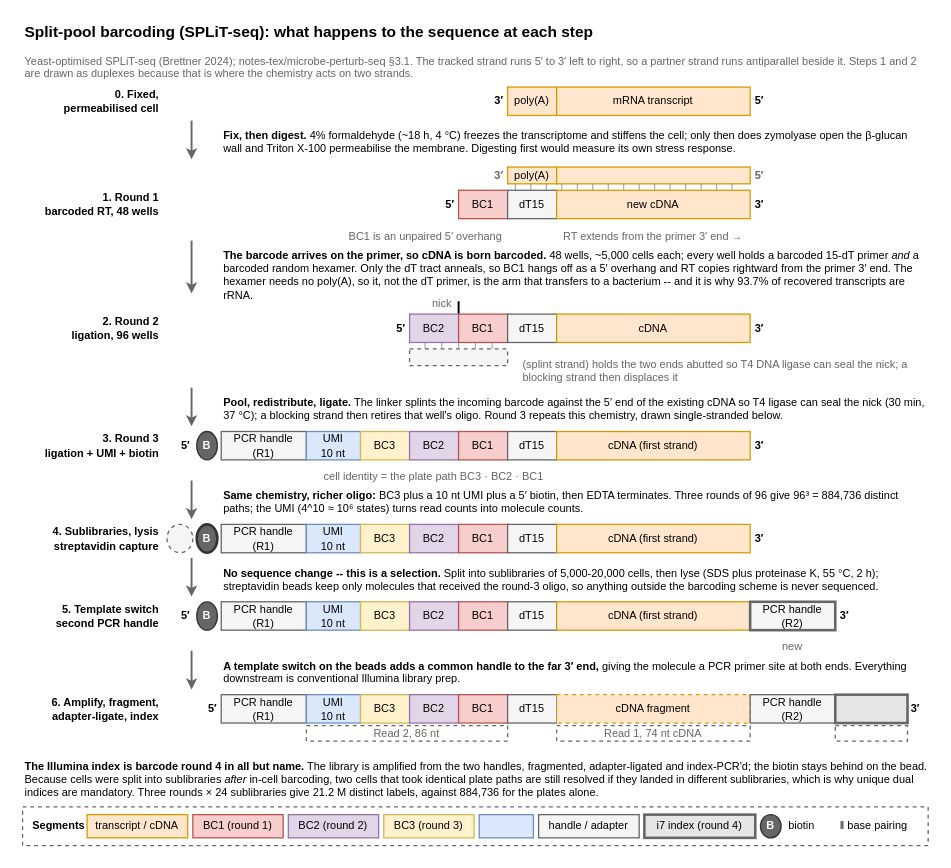
This 951x868 diagram has some shape labels left out. The centre of each missing label's shape, as x and y in pixels:
"i7 index (BC 4)" belongs at point 870,708.
"index read" belongs at point 871,732.
"linker" belongs at point 458,357.
"mRNA template" belongs at point 652,175.
"SA" belongs at point 179,538.
"UMI" belongs at point 505,825.
